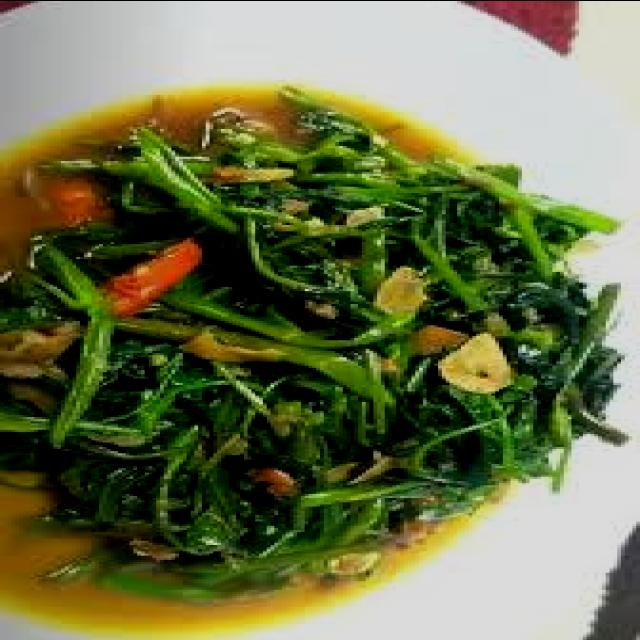tumis kangkung: (10, 93, 622, 592)
